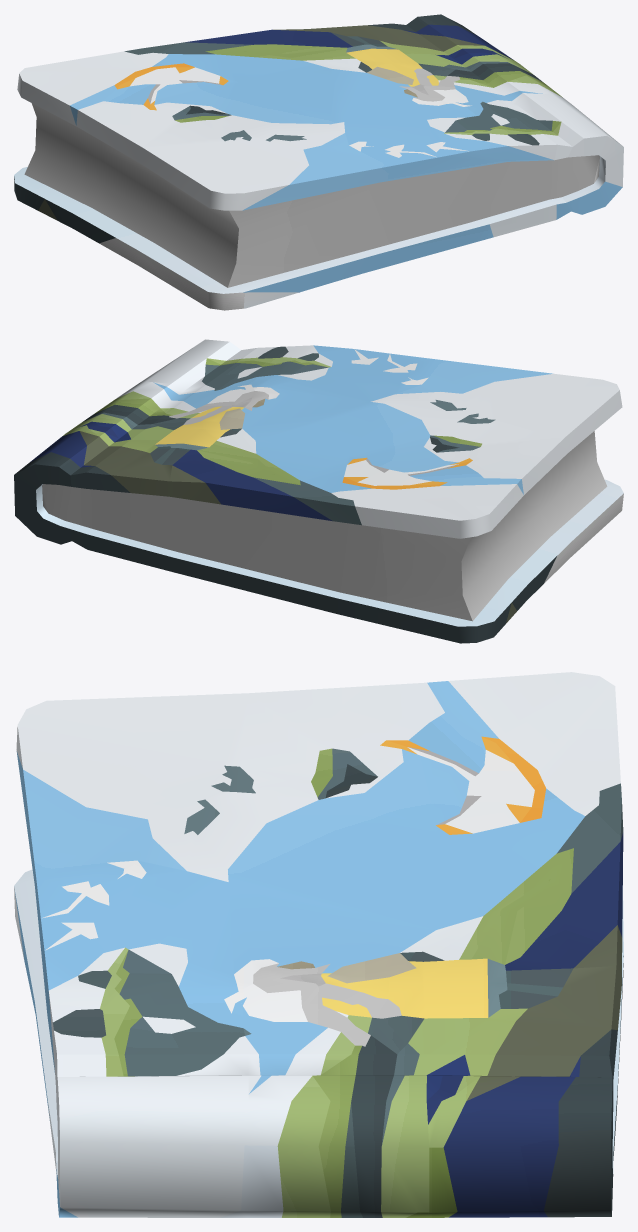
Rendered from CharSkyKid_Prop_SkyStoryBook01_Closed.glb.
3 renders of one model, top to bottom at view 1: azimuth 30°, elevation 25°; view 2: azimuth 150°, elevation 25°; view 3: azimuth 270°, elevation 25°, orthographic. The views are drawn at different scales.
Parts seen in each view (by area): view 1: CharSkyKid_Prop_SkyStoryBook01_Closed; view 2: CharSkyKid_Prop_SkyStoryBook01_Closed; view 3: CharSkyKid_Prop_SkyStoryBook01_Closed.
Part boxes in pixels (bbox=[...]): CharSkyKid_Prop_SkyStoryBook01_Closed: bbox=[14, 14, 623, 310]; CharSkyKid_Prop_SkyStoryBook01_Closed: bbox=[14, 339, 623, 643]; CharSkyKid_Prop_SkyStoryBook01_Closed: bbox=[14, 672, 623, 1217].
Bounding box in the file's own units: 4.05 × 1.01 × 2.78.
1 material, 1 textured.
